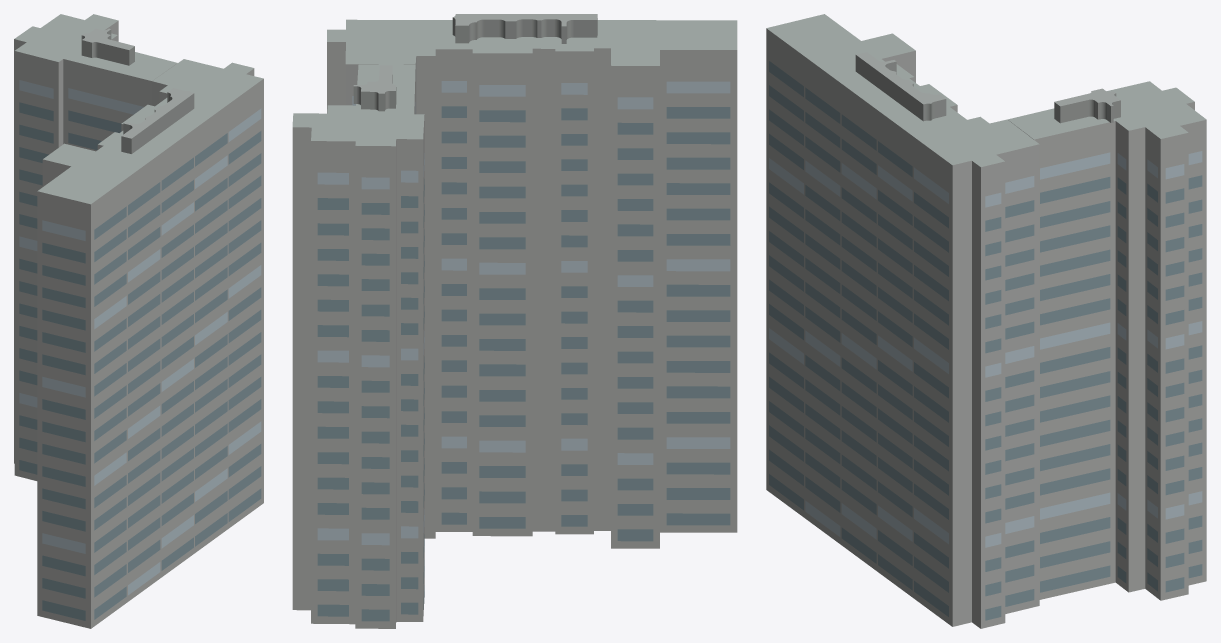
Rendered from fallback-acro-riverpark-112.glb.
3 renders of one model, left to right at view 1: azimuth 30°, elevation 25°; view 2: azimuth 150°, elevation 25°; view 3: azimuth 270°, elevation 25°, orthographic. The views are drawn at different scales.
Parts seen in each view (by area): view 1: fallback-acro-riverpark-112; view 2: fallback-acro-riverpark-112; view 3: fallback-acro-riverpark-112.
Part boxes in pixels (<box>): fallback-acro-riverpark-112: <box>14,14,263,628</box>; fallback-acro-riverpark-112: <box>292,14,737,628</box>; fallback-acro-riverpark-112: <box>766,14,1206,628</box>.
Size of the model in its own units: 46.72 by 68 by 56.73.
